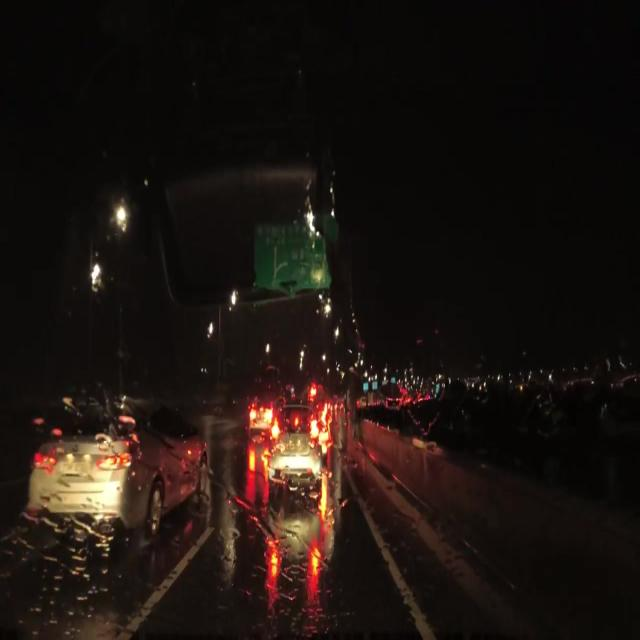Car: (23, 403, 206, 533), (266, 399, 320, 491), (245, 394, 272, 433)
